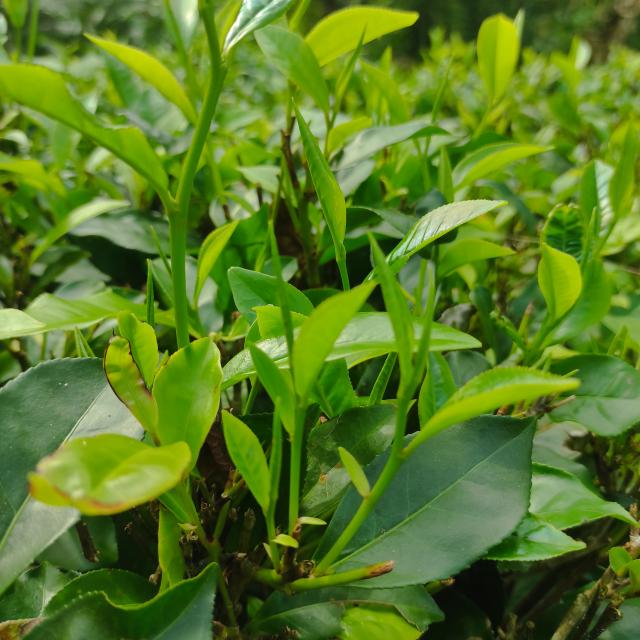unopened_leaf: (257, 207, 301, 390), (406, 248, 445, 392), (420, 42, 466, 156), (329, 15, 370, 114), (576, 206, 606, 265), (140, 260, 162, 333)
